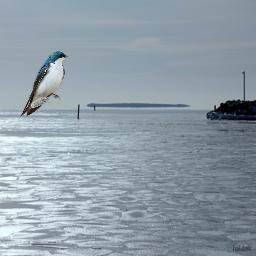Swallow: (20, 51, 69, 117)
